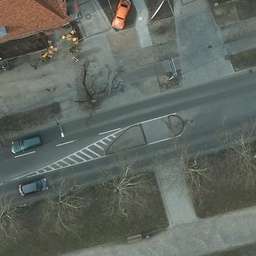car: (104, 0, 138, 29), (12, 134, 44, 156), (19, 176, 49, 198)
